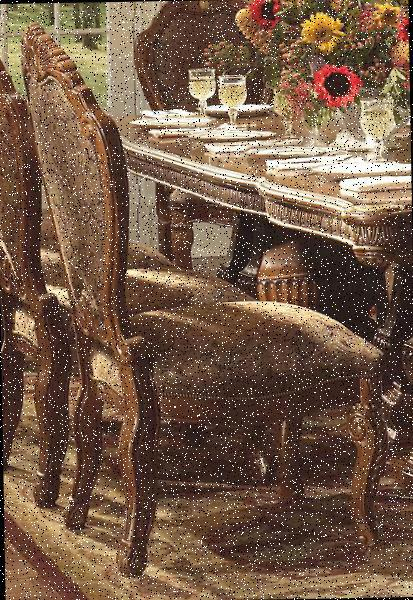Silla: (30, 22, 385, 575)
